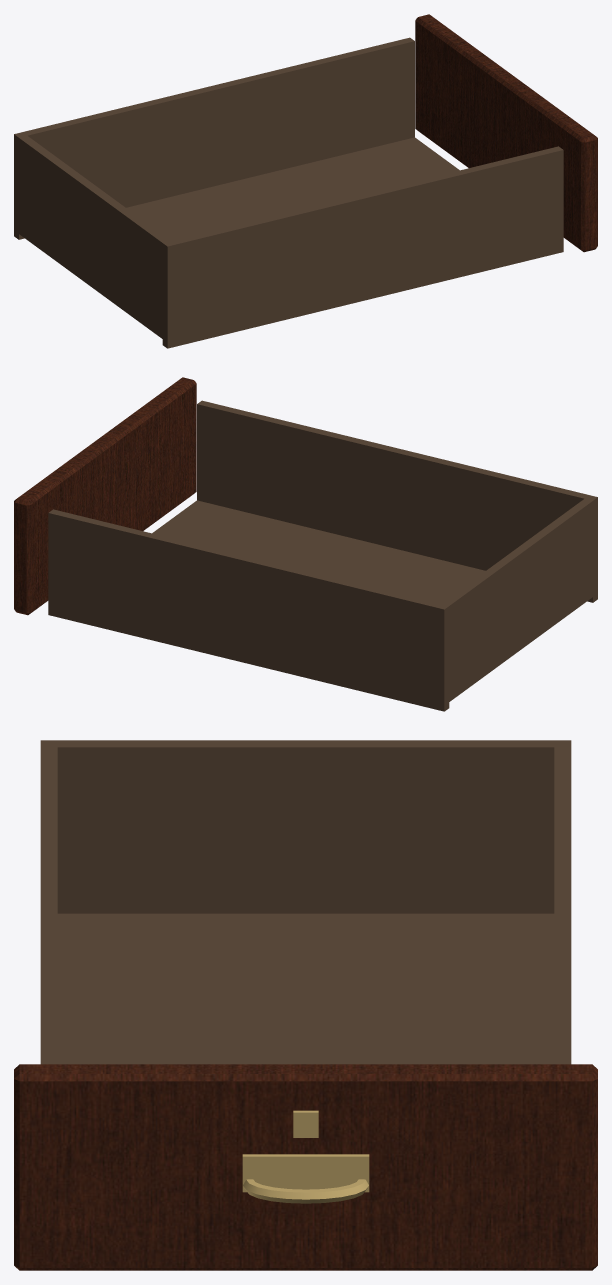
The model's file is room_guest_room__夹层未发现.gltf.
3 renders of one model, top to bottom at view 1: azimuth 30°, elevation 25°; view 2: azimuth 150°, elevation 25°; view 3: azimuth 270°, elevation 25°, orthographic. The views are drawn at different scales.
Parts seen in each view (by area): view 1: 客房·书桌夹层抽屉; view 2: 客房·书桌夹层抽屉; view 3: 客房·书桌夹层抽屉.
Boxes of the visible parts, <box> form: 客房·书桌夹层抽屉: <box>14,14,597,348</box>; 客房·书桌夹层抽屉: <box>14,377,597,711</box>; 客房·书桌夹层抽屉: <box>14,740,597,1270</box>.
Bounding box in the file's own units: 0.629 × 0.155 × 0.414.
3 materials, 1 textured.
